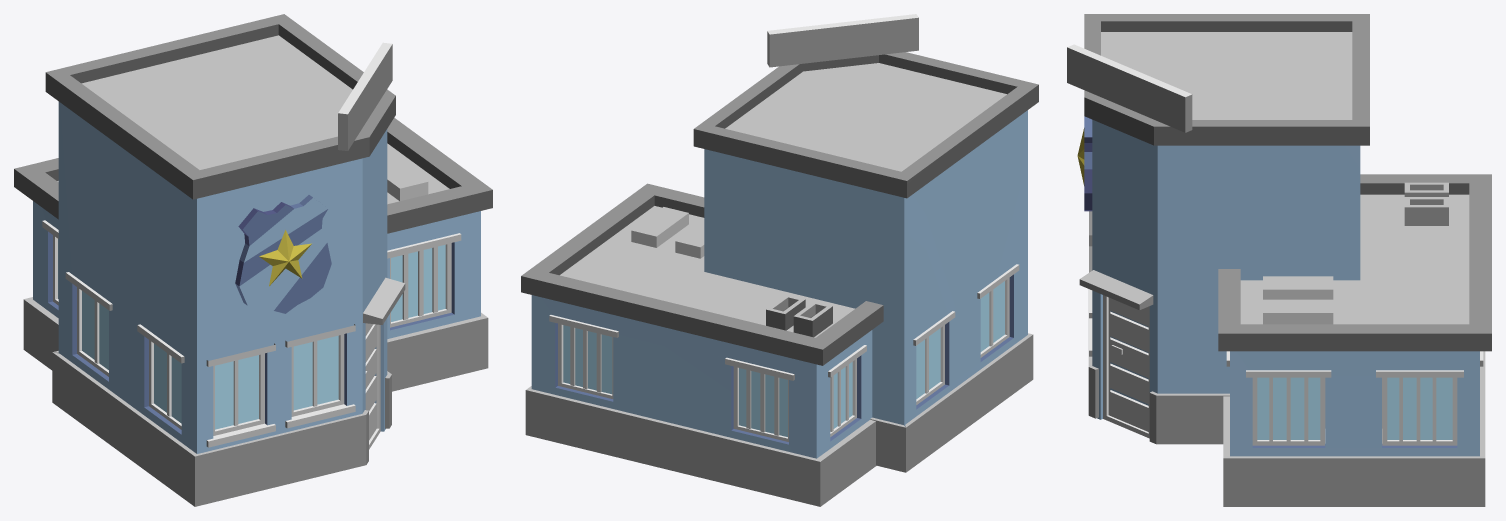
File: house_purpose_003.glb
3 renders of one model, left to right at view 1: azimuth 30°, elevation 25°; view 2: azimuth 150°, elevation 25°; view 3: azimuth 270°, elevation 25°, orthographic. The views are drawn at different scales.
Visible parts, largest first — view 1: house_purpose_003; view 2: house_purpose_003; view 3: house_purpose_003.
Boxes of the visible parts, x1=… form: house_purpose_003: x1=14, y1=14, x2=492, y2=506; house_purpose_003: x1=521, y1=14, x2=1038, y2=506; house_purpose_003: x1=1067, y1=14, x2=1491, y2=506.
Size of the model in its own units: 7.41 by 7.07 by 7.63.
1 material, 1 textured.
